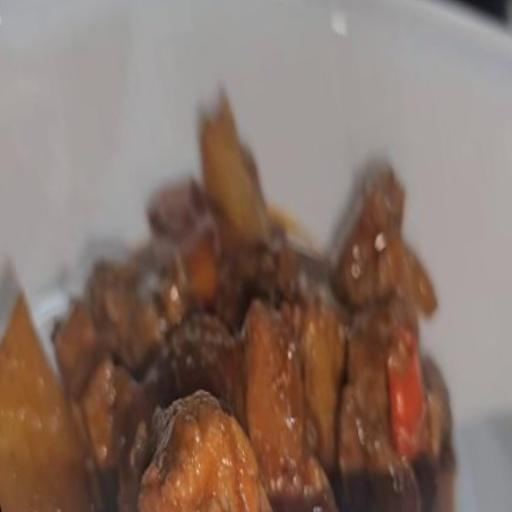pork caldereta: (0, 112, 475, 511)
